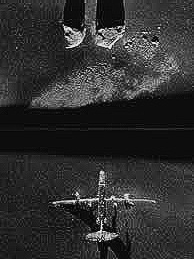plane: (54, 170, 156, 242)
